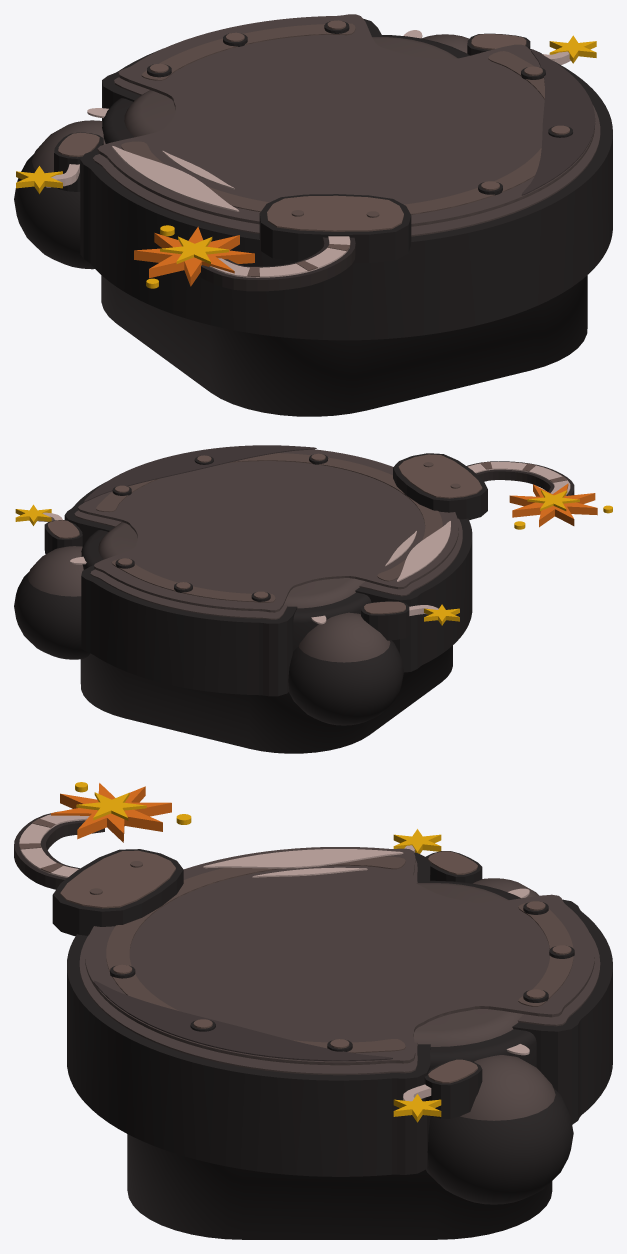
The model's file is body_bomba.fbx.
3 views of the same model, one above another, from view 1: azimuth 30°, elevation 25°; view 2: azimuth 150°, elevation 25°; view 3: azimuth 270°, elevation 25° (orthographic). The views are drawn at different scales.
Parts seen in each view (by area): view 1: body_bomba_corpo, body_bomba_mao_esq, body_bomba_corpo_neon, body_bomba_mao, body_bomba_mao_esq_neon, body_bomba_mao_neon; view 2: body_bomba_corpo, body_bomba_mao_esq, body_bomba_mao, body_bomba_corpo_neon, body_bomba_mao_esq_neon, body_bomba_mao_neon; view 3: body_bomba_corpo, body_bomba_mao, body_bomba_corpo_neon, body_bomba_mao_esq, body_bomba_mao_neon, body_bomba_mao_esq_neon.
Part boxes in pixels (x1=…): body_bomba_corpo: x1=80, y1=14, x2=612, y2=416; body_bomba_mao_esq: x1=14, y1=108, x2=108, y2=269; body_bomba_corpo_neon: x1=134, y1=225, x2=254, y2=288; body_bomba_mao: x1=403, y1=30, x2=570, y2=64; body_bomba_mao_esq_neon: x1=16, y1=166, x2=62, y2=193; body_bomba_mao_neon: x1=549, y1=35, x2=596, y2=63; body_bomba_corpo: x1=64, y1=445, x2=574, y2=753; body_bomba_mao_esq: x1=288, y1=601, x2=438, y2=725; body_bomba_mao: x1=14, y1=512, x2=89, y2=659; body_bomba_corpo_neon: x1=509, y1=483, x2=612, y2=529; body_bomba_mao_esq_neon: x1=424, y1=604, x2=459, y2=625; body_bomba_mao_neon: x1=15, y1=504, x2=51, y2=525; body_bomba_corpo: x1=14, y1=811, x2=612, y2=1239; body_bomba_mao: x1=403, y1=1044, x2=573, y2=1204; body_bomba_corpo_neon: x1=51, y1=782, x2=191, y2=842; body_bomba_mao_esq: x1=404, y1=845, x2=538, y2=898; body_bomba_mao_neon: x1=393, y1=1094, x2=441, y2=1122; body_bomba_mao_esq_neon: x1=393, y1=829, x2=441, y2=853.
Bounding box in the file's own units: 6.79 × 2.23 × 5.64.
1 material, 1 textured.
